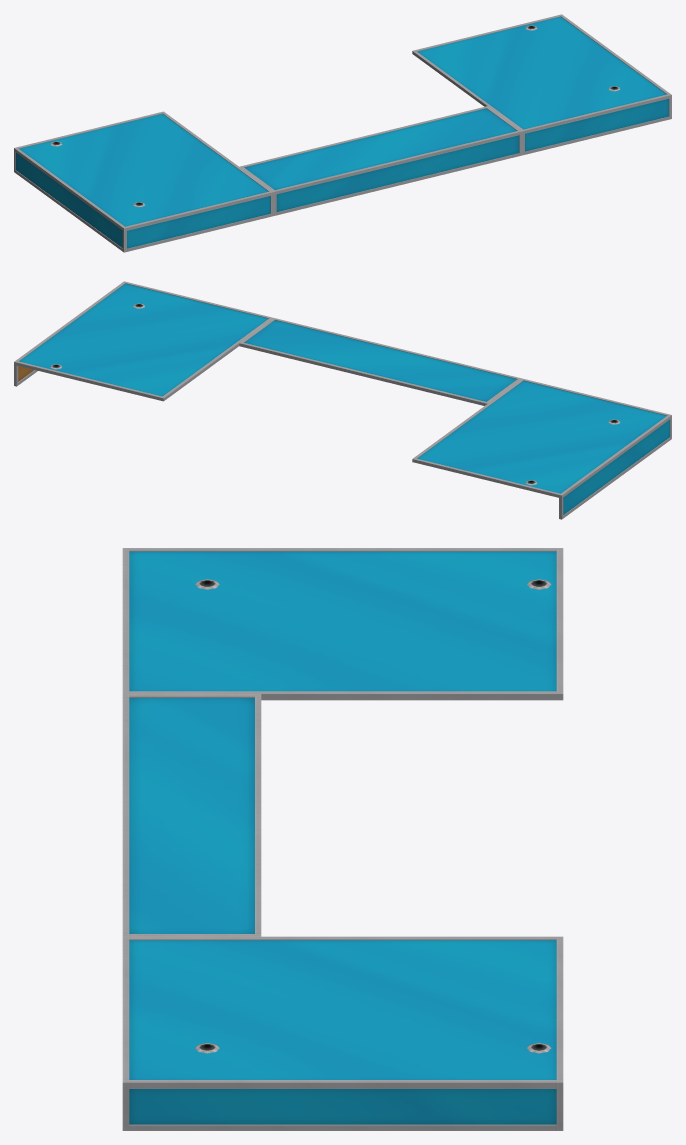
The model's file is jsf_4P_s03_c02_t03_DX.fbx.
3 views of the same model, one above another, from view 1: azimuth 30°, elevation 25°; view 2: azimuth 150°, elevation 25°; view 3: azimuth 270°, elevation 25° (orthographic). The views are drawn at different scales.
Parts seen in each view (by area): view 1: jsf_4P_s03_c02_t03_DX; view 2: jsf_4P_s03_c02_t03_DX; view 3: jsf_4P_s03_c02_t03_DX.
Boxes of the visible parts, box(x1,y1,x2,y2) form: jsf_4P_s03_c02_t03_DX: box(14, 14, 671, 252); jsf_4P_s03_c02_t03_DX: box(14, 281, 671, 519); jsf_4P_s03_c02_t03_DX: box(122, 548, 563, 1130).
Bounding box in the file's own units: 298 × 12.99 × 104.
